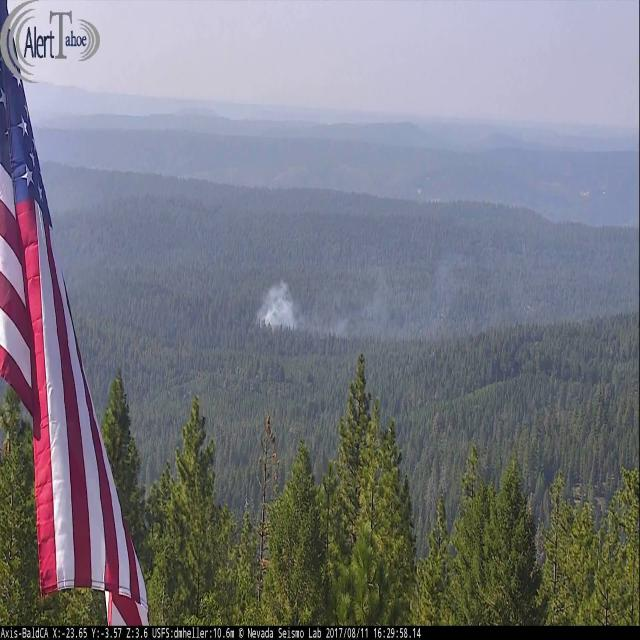smoke: (255, 230, 640, 342)
